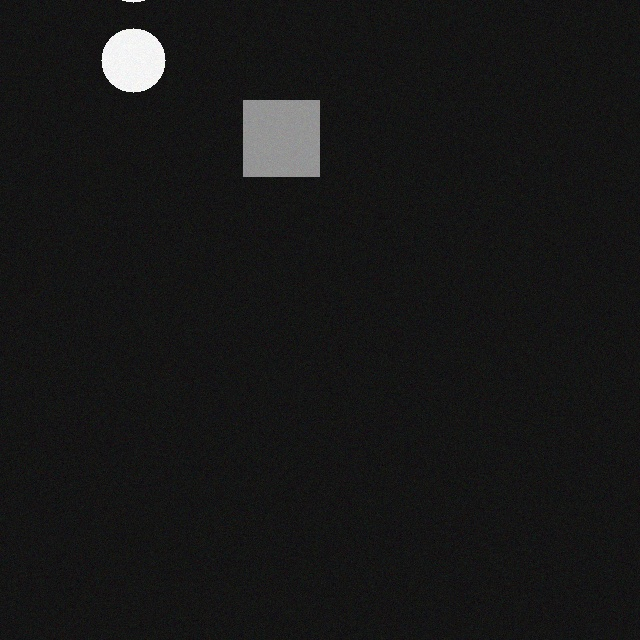circle: (112, 13, 176, 77)
square: (254, 85, 330, 161)
